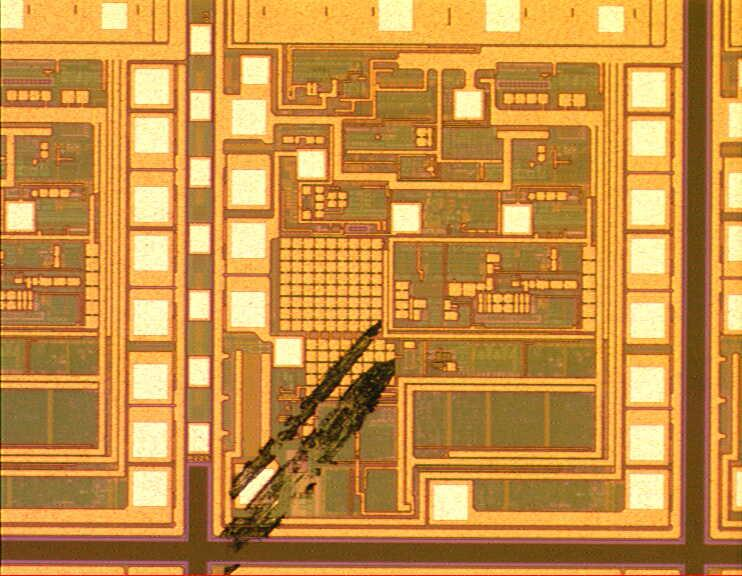SCRATCH: (213, 312, 402, 576)
